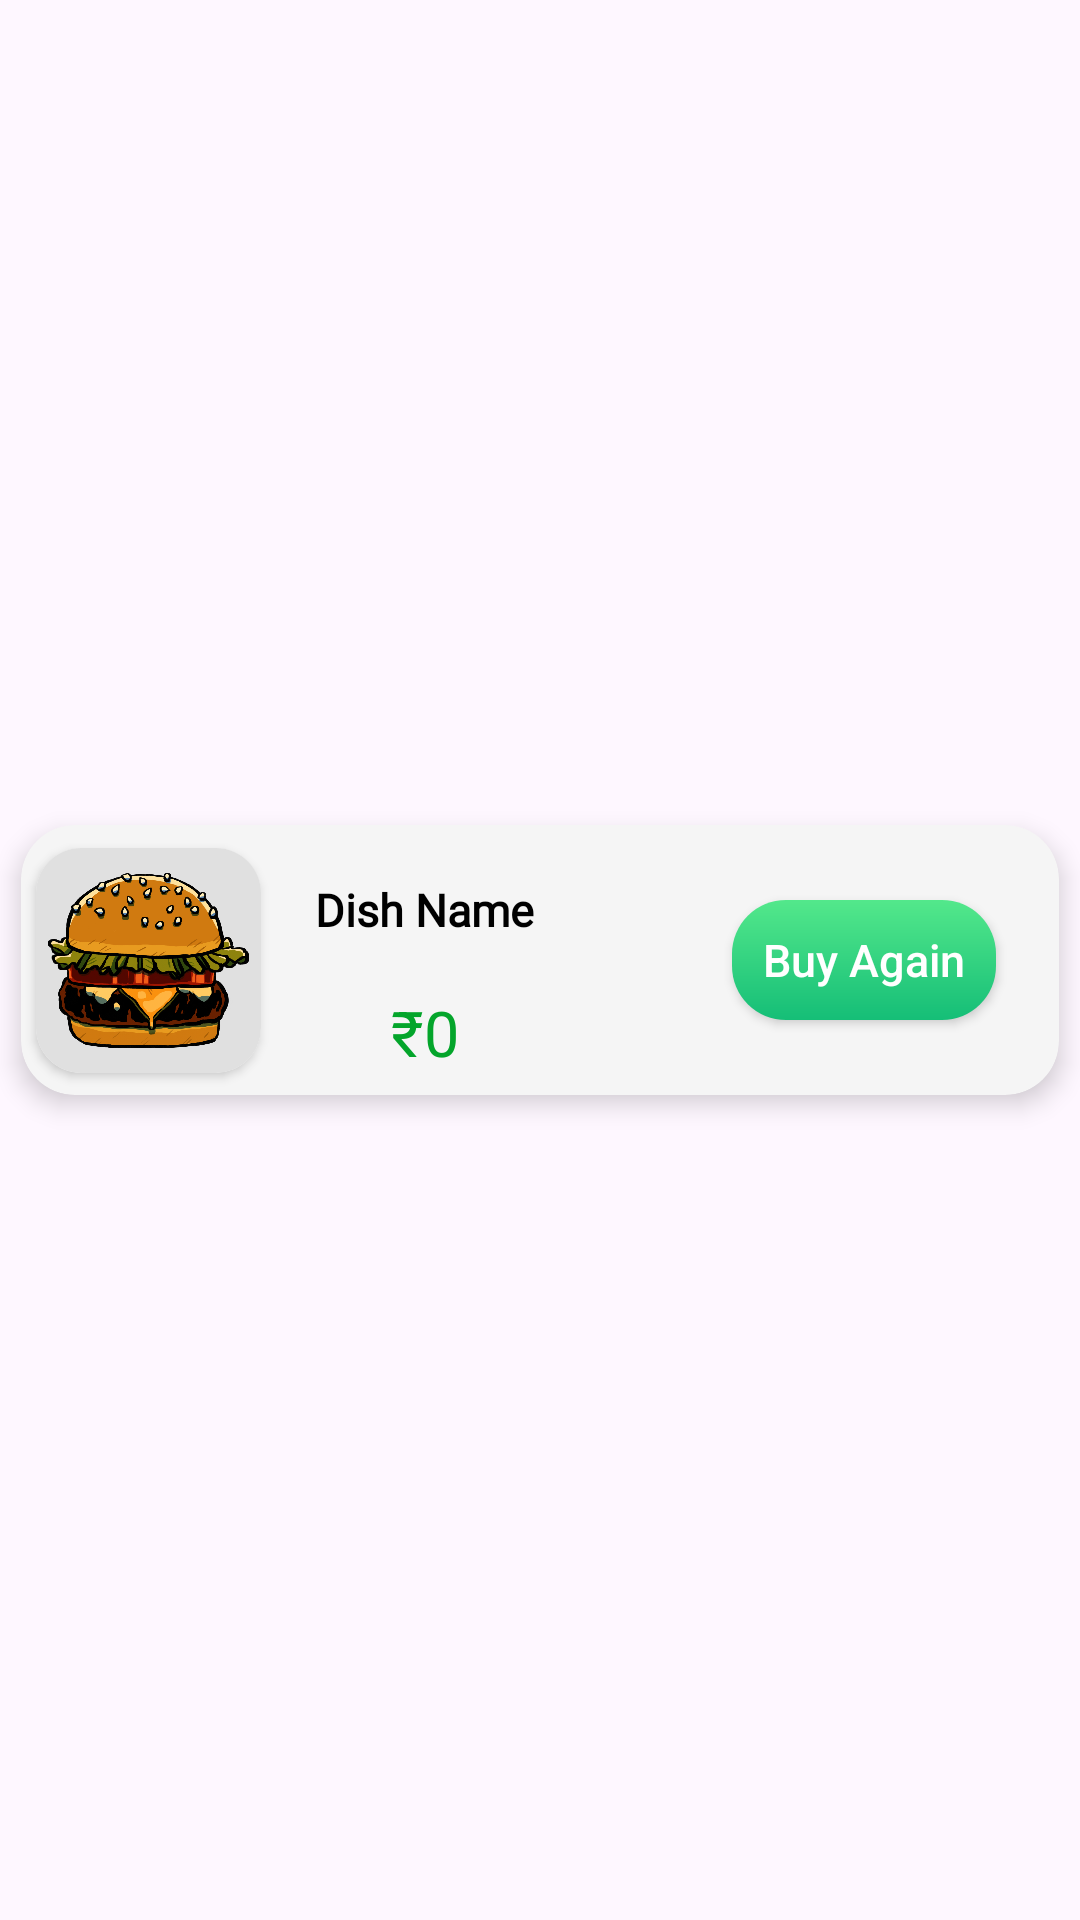

Named icons in this screenshot (1080×1920) and their bounding boxes, (x1, y1, x2, y2):
burger: (37, 873, 249, 1073)
